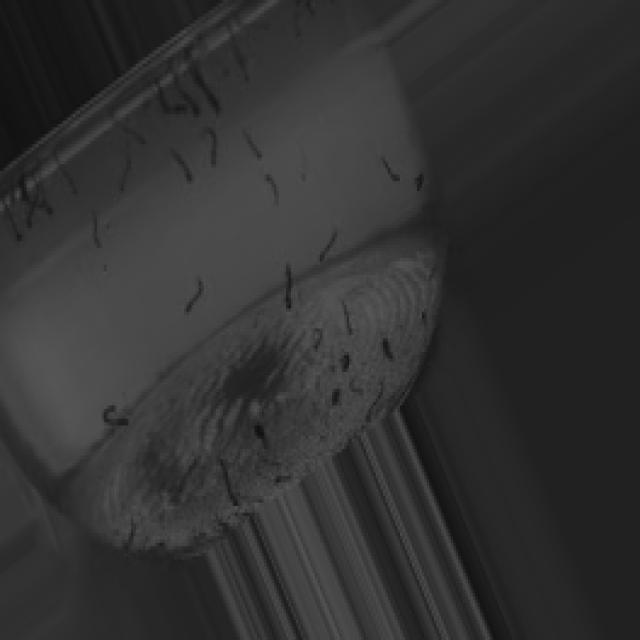larvas: (182, 44, 225, 118), (164, 63, 202, 120), (13, 173, 57, 221), (150, 77, 190, 127), (226, 18, 253, 88), (53, 143, 81, 198), (0, 194, 26, 247), (25, 170, 44, 233), (112, 114, 146, 149), (219, 459, 239, 507), (291, 1, 315, 38), (170, 148, 194, 184), (184, 278, 204, 316), (317, 225, 337, 261), (368, 383, 386, 418), (205, 128, 220, 167), (100, 404, 129, 424), (243, 130, 262, 160), (382, 154, 402, 182), (264, 174, 281, 205), (237, 15, 267, 31), (120, 150, 130, 193), (284, 262, 292, 312), (123, 522, 138, 547), (91, 212, 102, 246), (254, 427, 270, 450), (343, 301, 351, 335), (313, 326, 324, 350), (384, 338, 396, 360), (275, 474, 294, 487), (349, 380, 365, 395), (414, 174, 426, 192), (341, 351, 350, 374)
